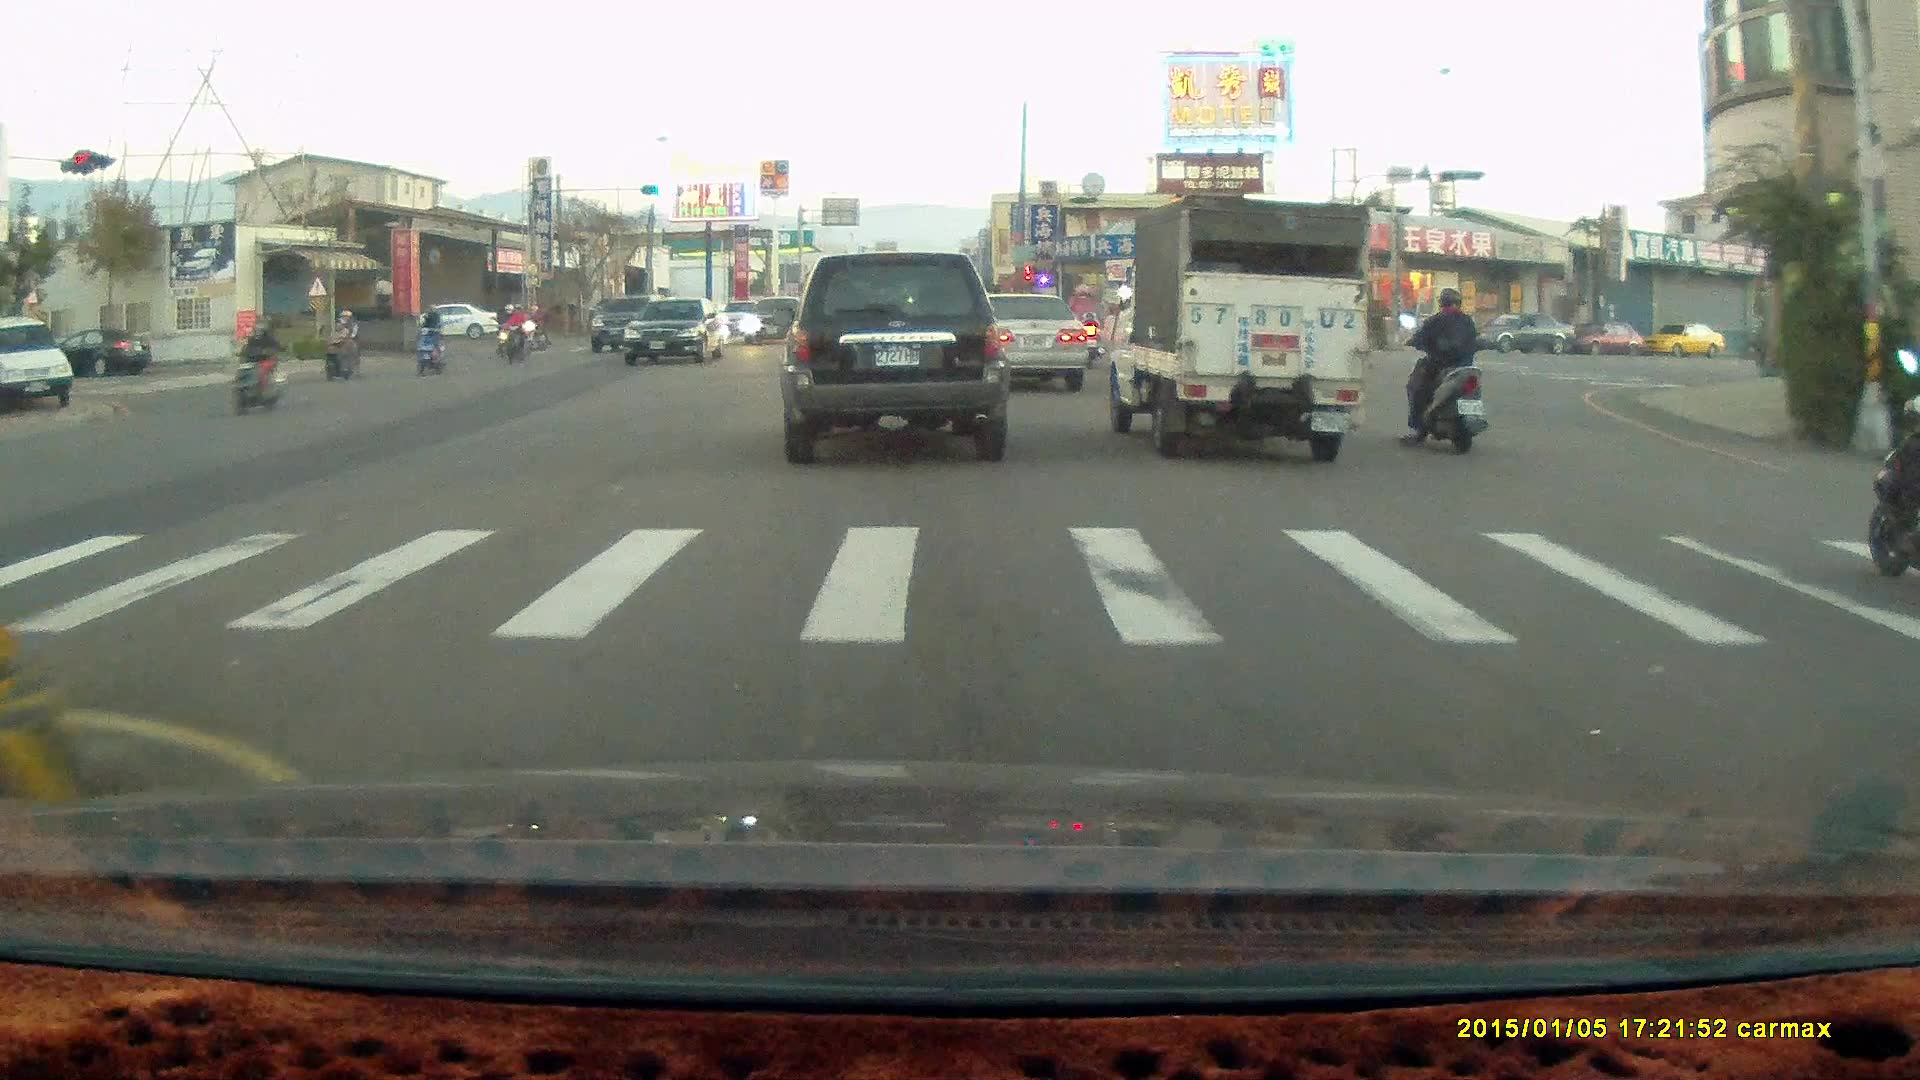rider: (1396, 283, 1490, 456), (1867, 394, 1920, 582), (223, 318, 289, 413), (321, 304, 363, 383), (409, 302, 443, 375), (500, 299, 526, 366), (492, 298, 523, 354)
vehicle: (1098, 194, 1372, 464), (776, 250, 1011, 465), (966, 290, 1090, 396), (960, 290, 1087, 391), (622, 298, 733, 370), (1, 314, 75, 412), (1464, 313, 1578, 360), (1640, 326, 1727, 363), (419, 303, 502, 342), (1569, 321, 1647, 360)
